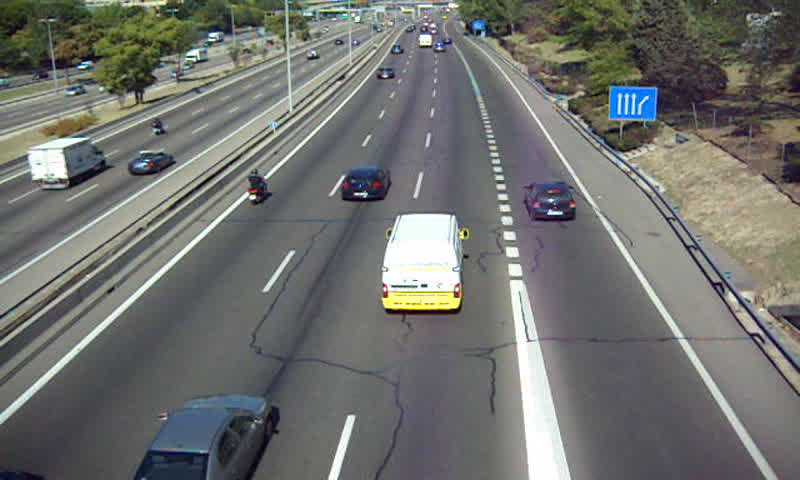car: (135, 395, 271, 480), (524, 182, 578, 219), (339, 166, 390, 201), (377, 65, 396, 81)
motorcycle: (244, 169, 267, 207)
van: (382, 214, 461, 311)
